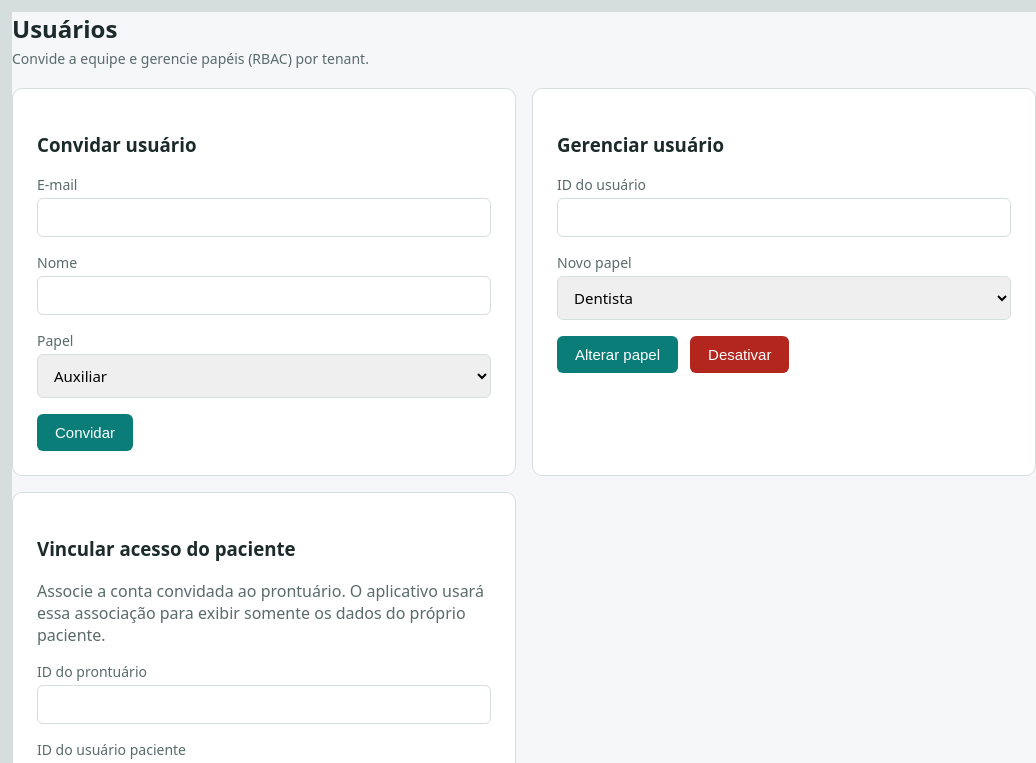
Test: UsersPage › convida um usuario e mostra o status
Type "novo@example.com" into the field labelled "E-mail" at (264, 218), box [37,198,491,237]
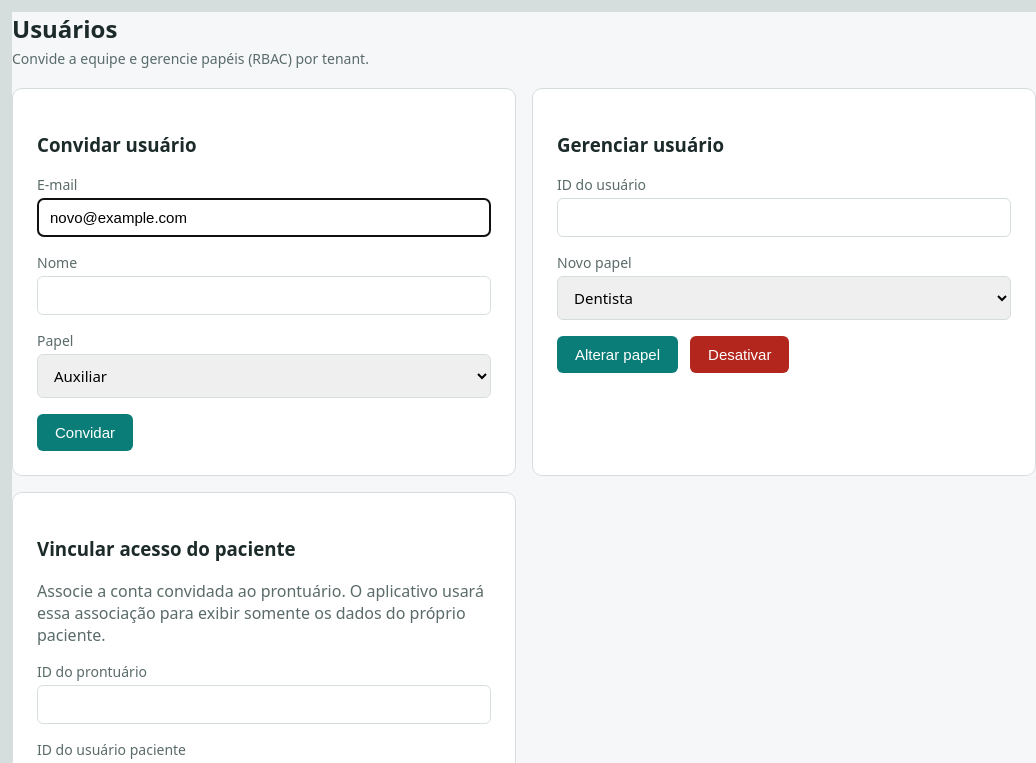
Type "Novo Usuário" into the field labelled "Nome" at (264, 296), box [37,276,491,315]
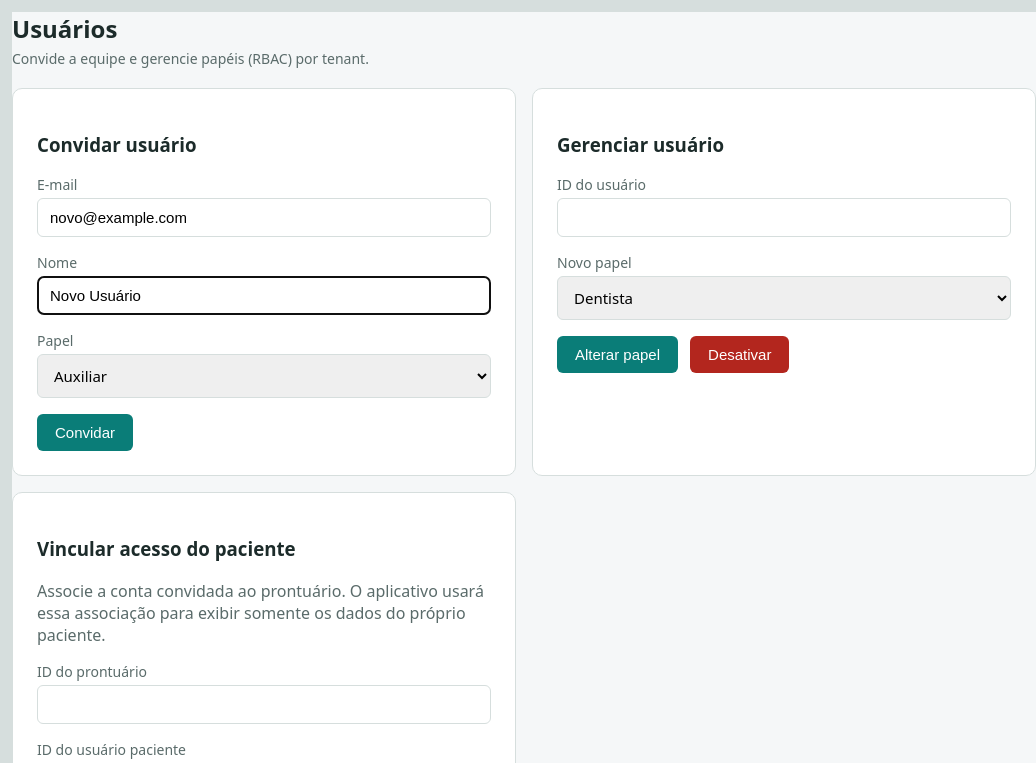
Click the button "Convidar" at (85, 433), box [37,414,133,451]
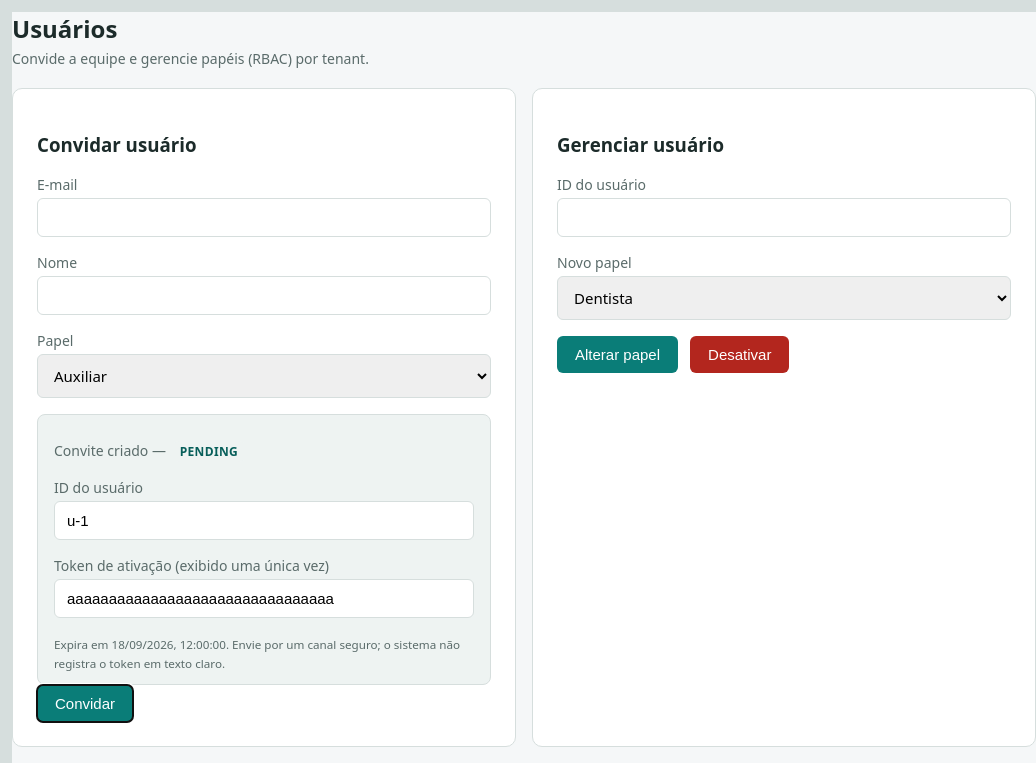
Result: the text "pending" is shown at [170,441,248,462]
